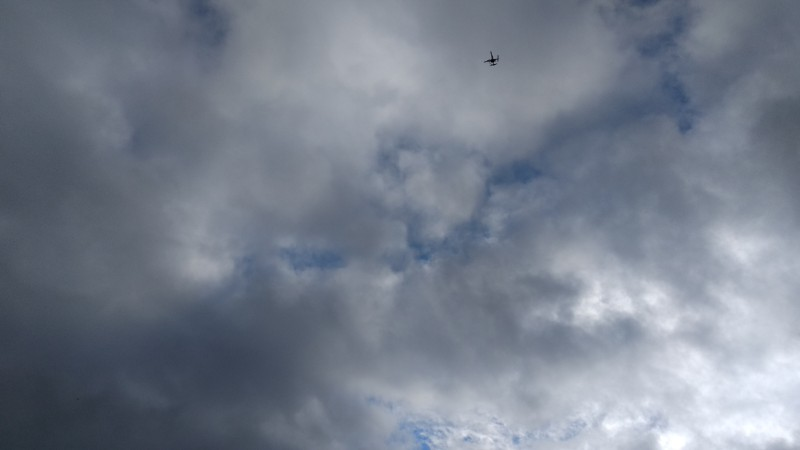drone: (484, 53, 501, 67)
